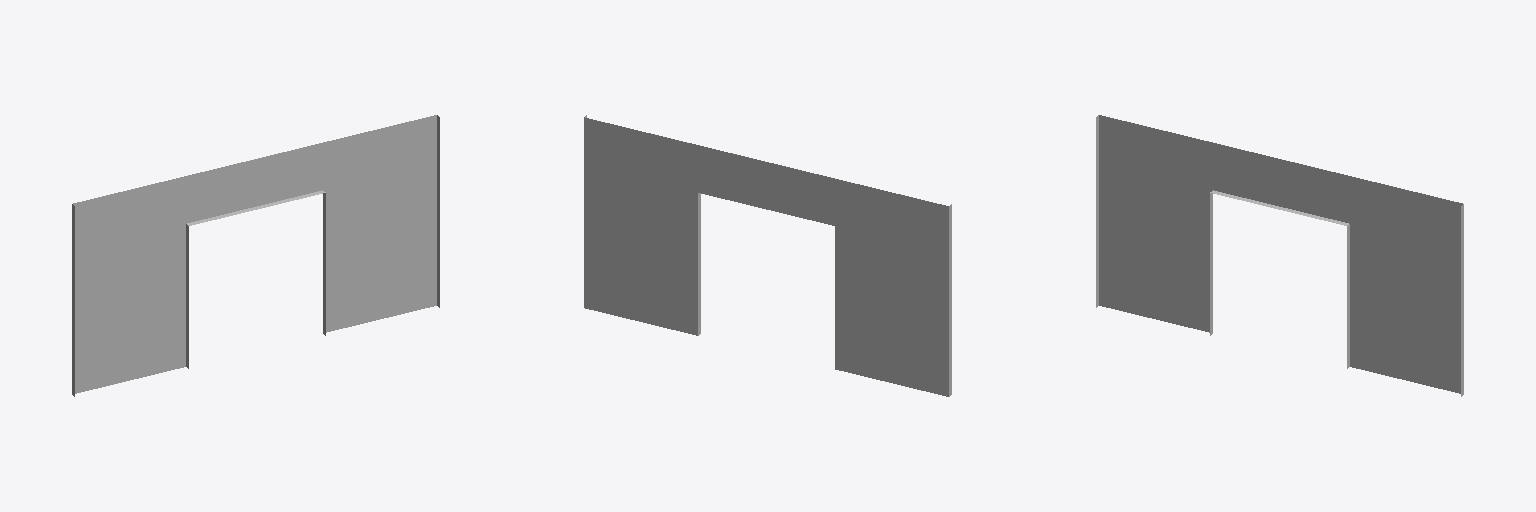
File: door-frame_8x4_W.obj
3 renders of one model, left to right at view 1: azimuth 30°, elevation 25°; view 2: azimuth 150°, elevation 25°; view 3: azimuth 330°, elevation 25°, orthographic.
Parts seen in each view (by area): view 1: door-frame_8x4_W_Cube.025; view 2: door-frame_8x4_W_Cube.025; view 3: door-frame_8x4_W_Cube.025.
Part boxes in pixels (x1,y1,x2,y2): door-frame_8x4_W_Cube.025: (72, 115, 439, 396); door-frame_8x4_W_Cube.025: (584, 115, 951, 396); door-frame_8x4_W_Cube.025: (1096, 115, 1463, 396).
Bounding box in the file's own units: 8 × 4 × 0.125.